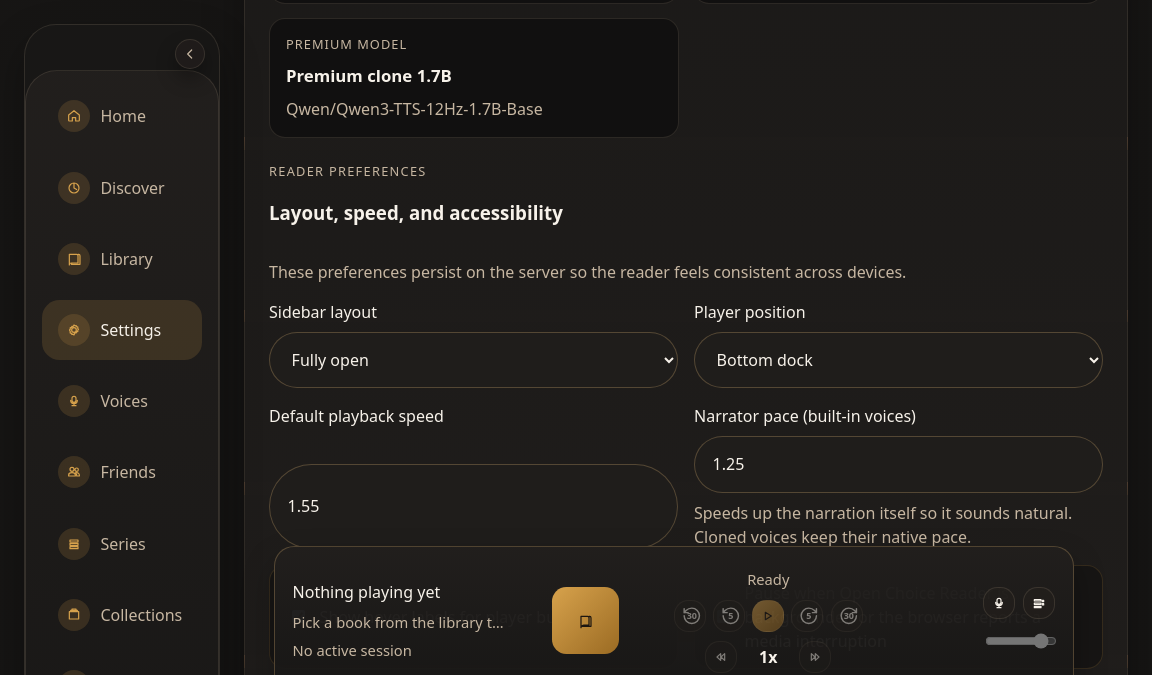
it: SettingsPage › applies saved reader preferences to the shell without requiring a manual reload
(page scrolled)
Select "Icons only" in the dropdown labelled "Sidebar layout" at (474, 360), box x1=269 y1=332 x2=678 y2=388
(page scrolled)
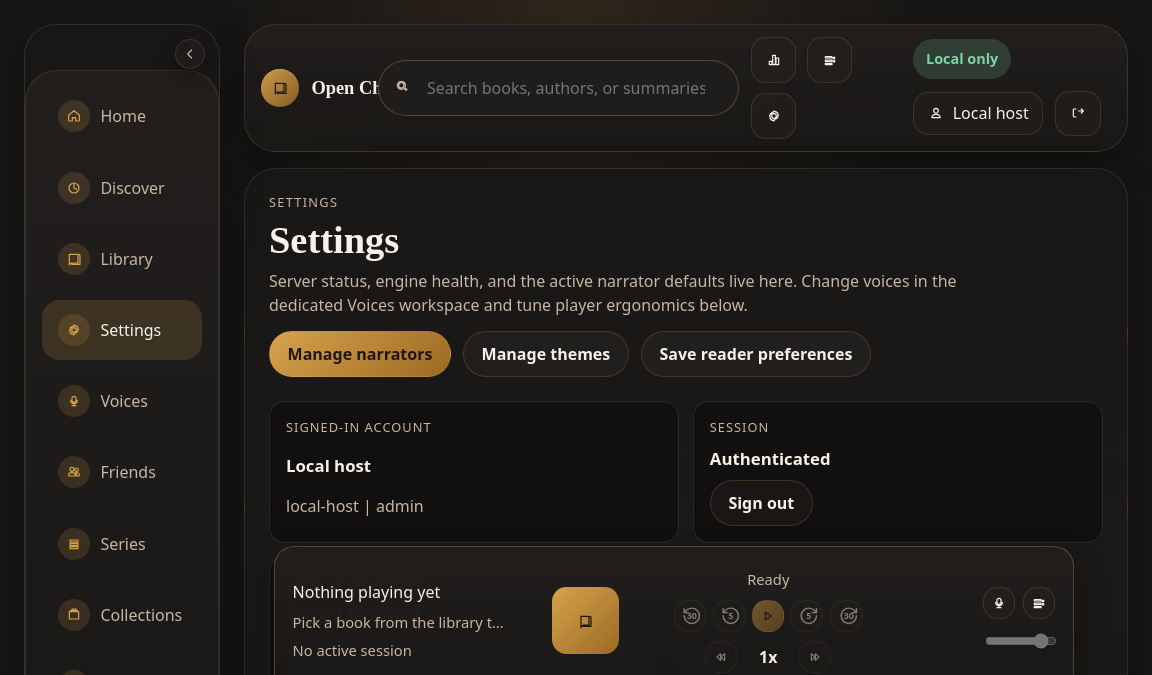
Click the button "Save reader preferences".
click(756, 354)  # box x1=641 y1=331 x2=871 y2=377
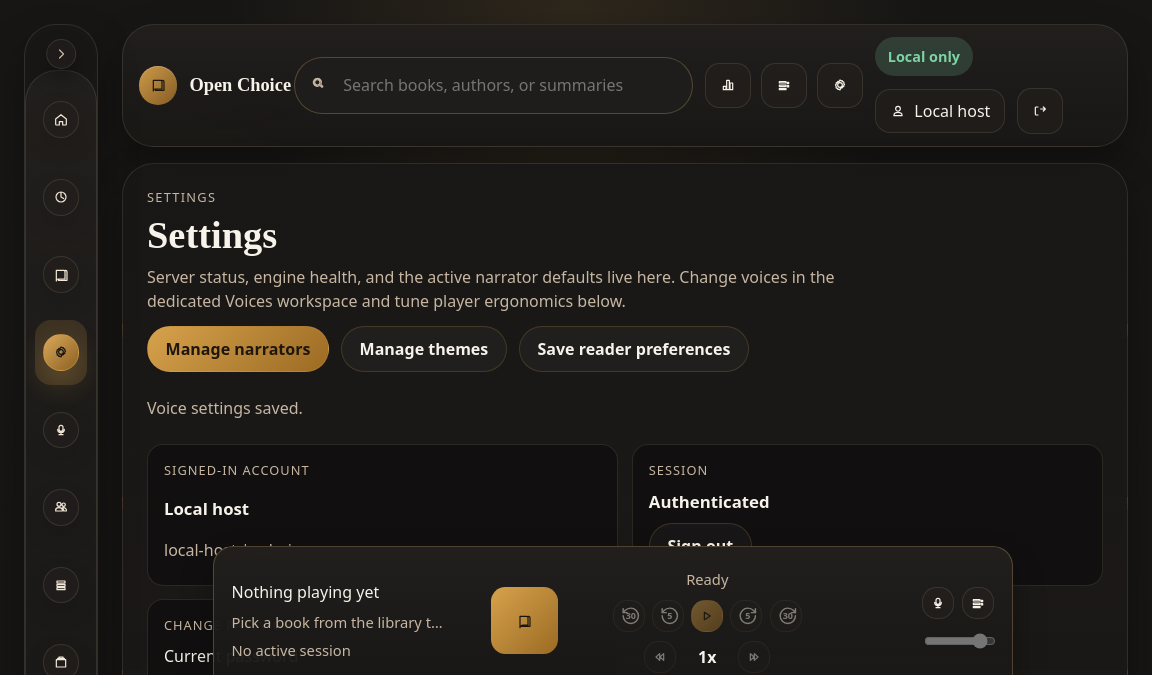
expect the text "Voice settings saved." is shown: met, box x1=147 y1=397 x2=303 y2=419
